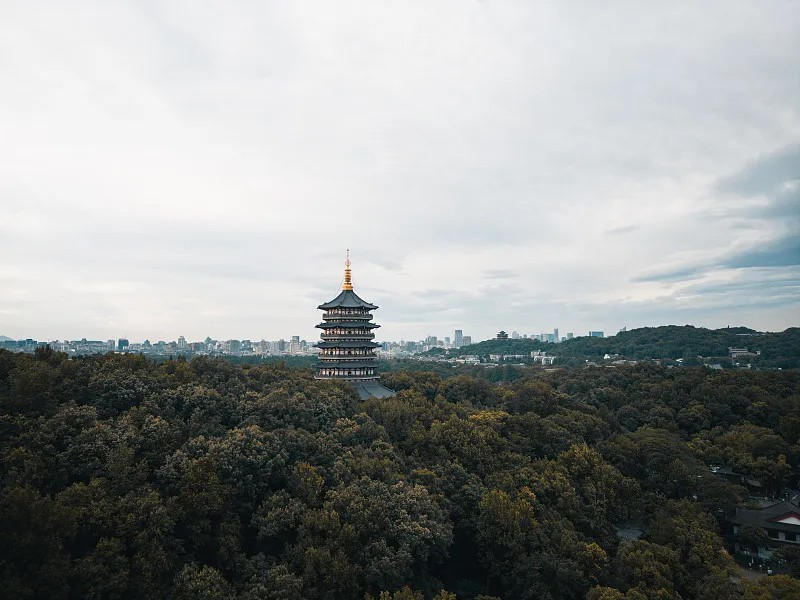Leifeng: (308, 248, 395, 404)
